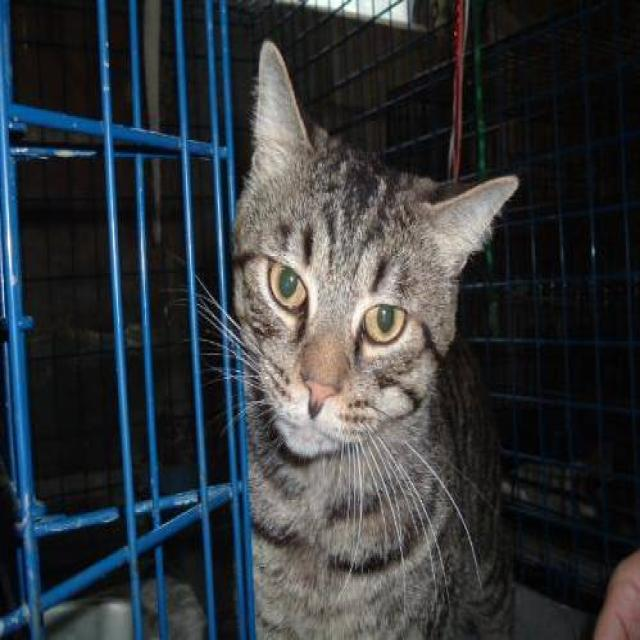cat: (167, 36, 522, 638)
